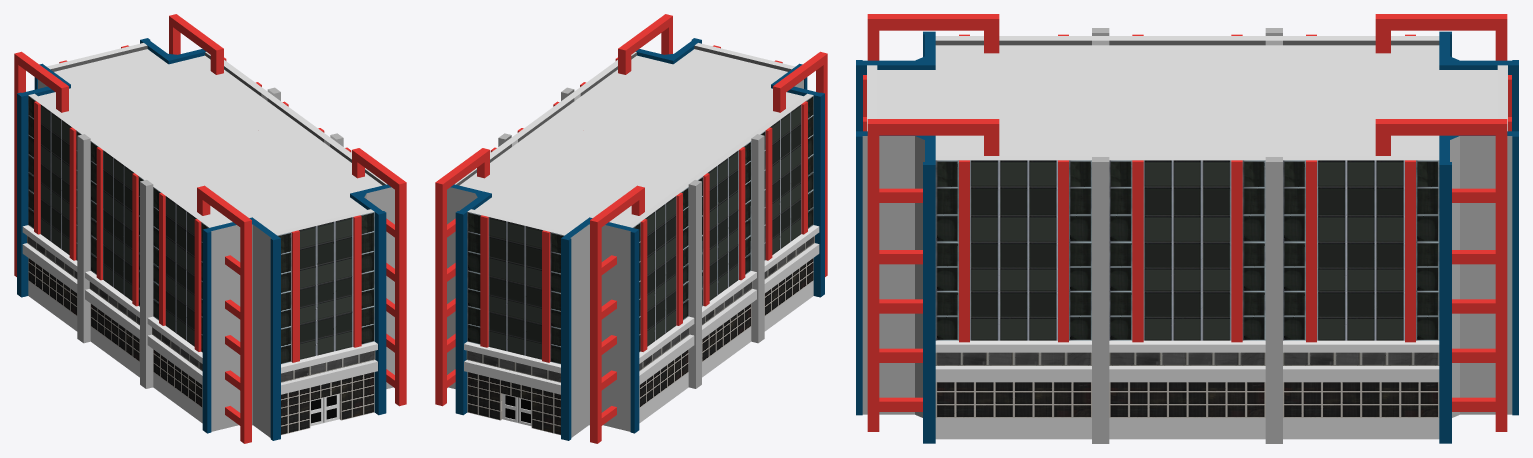
The picture shows the model from 3 angles, left to right: view 1: azimuth 30°, elevation 25°; view 2: azimuth 150°, elevation 25°; view 3: azimuth 270°, elevation 25°; orthographic projection. The views are drawn at different scales.
Visible parts, largest first — view 1: Building; view 2: Building; view 3: Building.
Boxes of the visible parts, <box> form: Building: <box>14,14,406,443</box>; Building: <box>435,14,827,443</box>; Building: <box>856,14,1518,443</box>.
Size of what is drawn, in the model's own units: 17.5 by 18.78 by 36.62.
